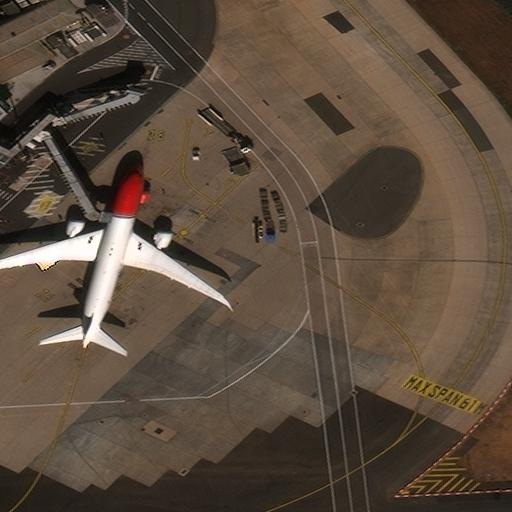Large Civil Transport: (0, 164, 226, 347)
